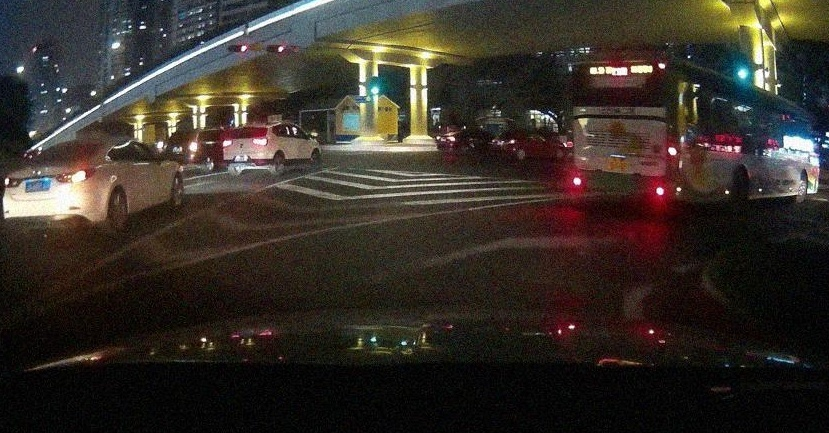L_light: (4, 176, 23, 189), (566, 130, 573, 160), (222, 140, 232, 148), (156, 141, 164, 149)
R_light: (55, 167, 94, 182), (667, 131, 677, 164), (252, 138, 267, 146), (188, 142, 197, 152)
T_light: (604, 101, 630, 107), (61, 146, 76, 149), (243, 126, 253, 129), (182, 132, 190, 134)
day-no: (565, 50, 682, 220)
night-no: (222, 124, 270, 178), (156, 128, 201, 175)
night-right: (2, 138, 110, 235)
